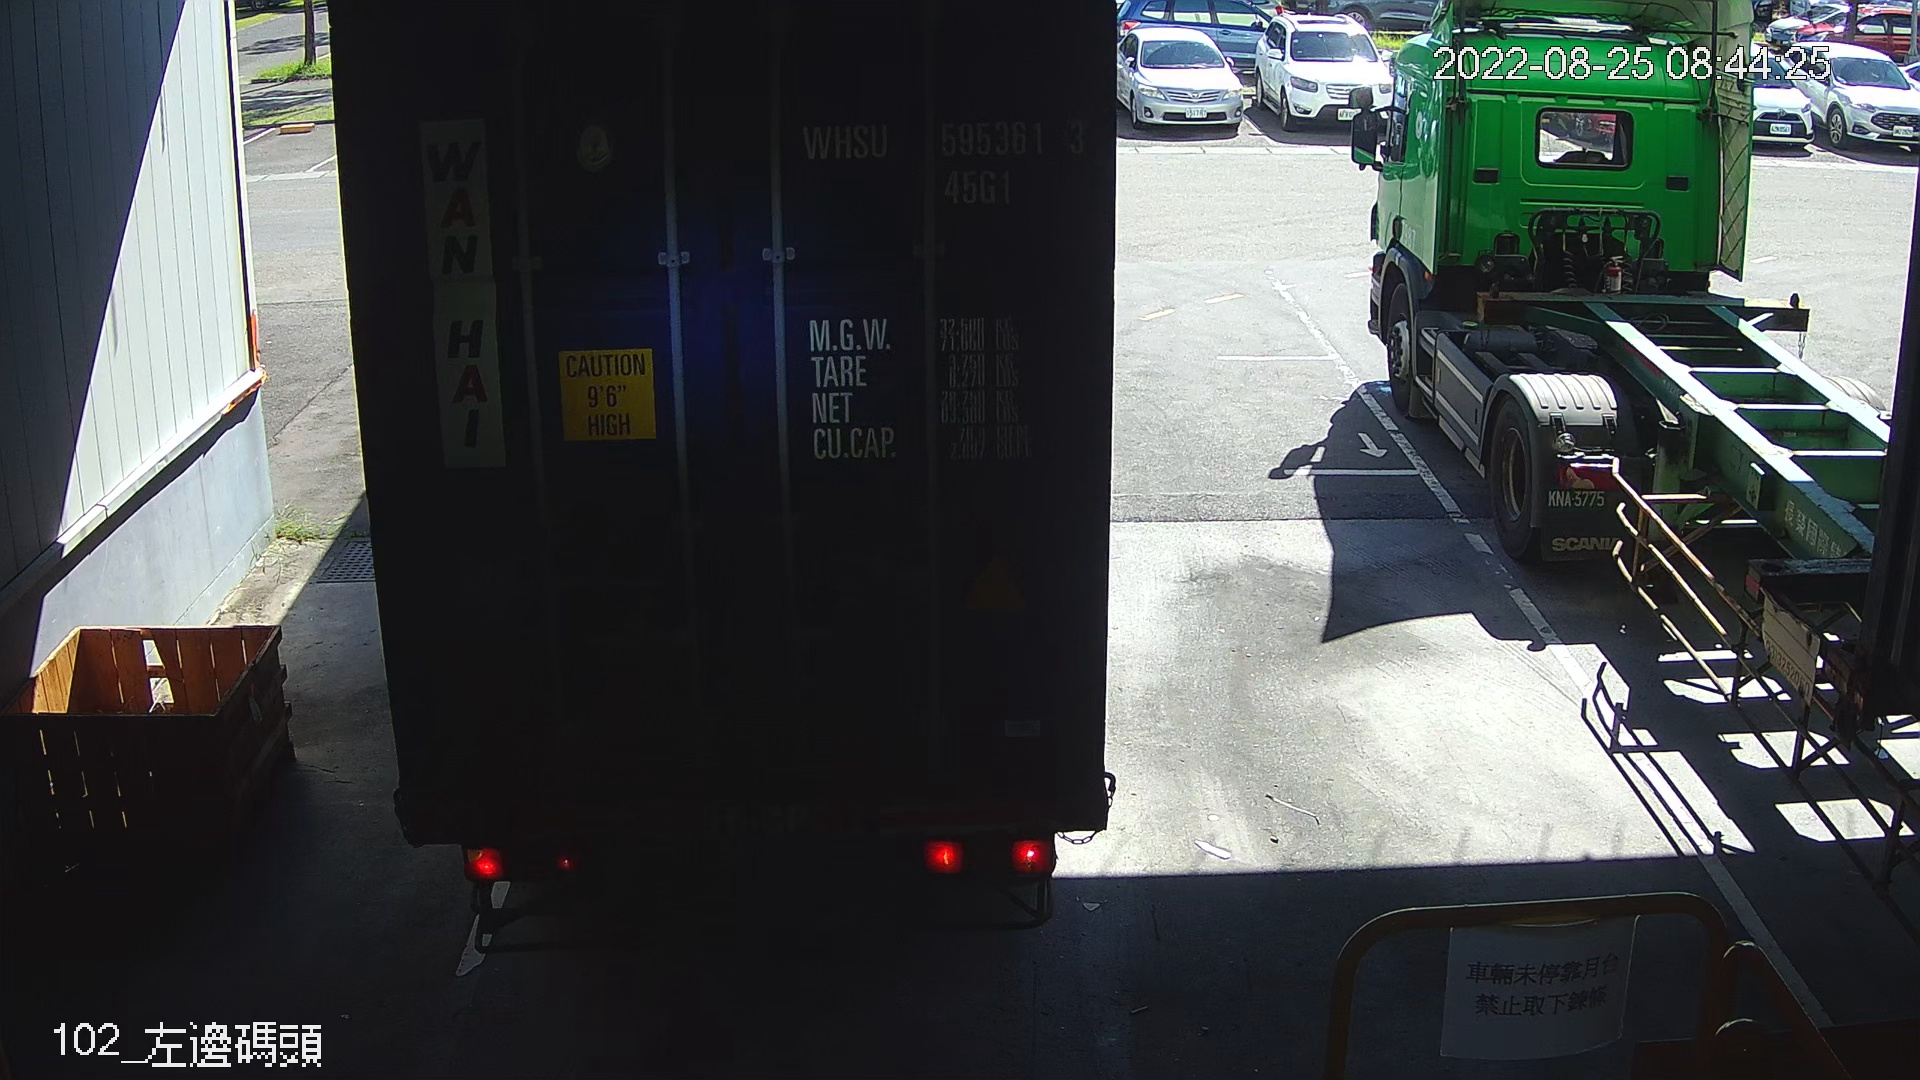container: (793, 111, 1095, 216)
